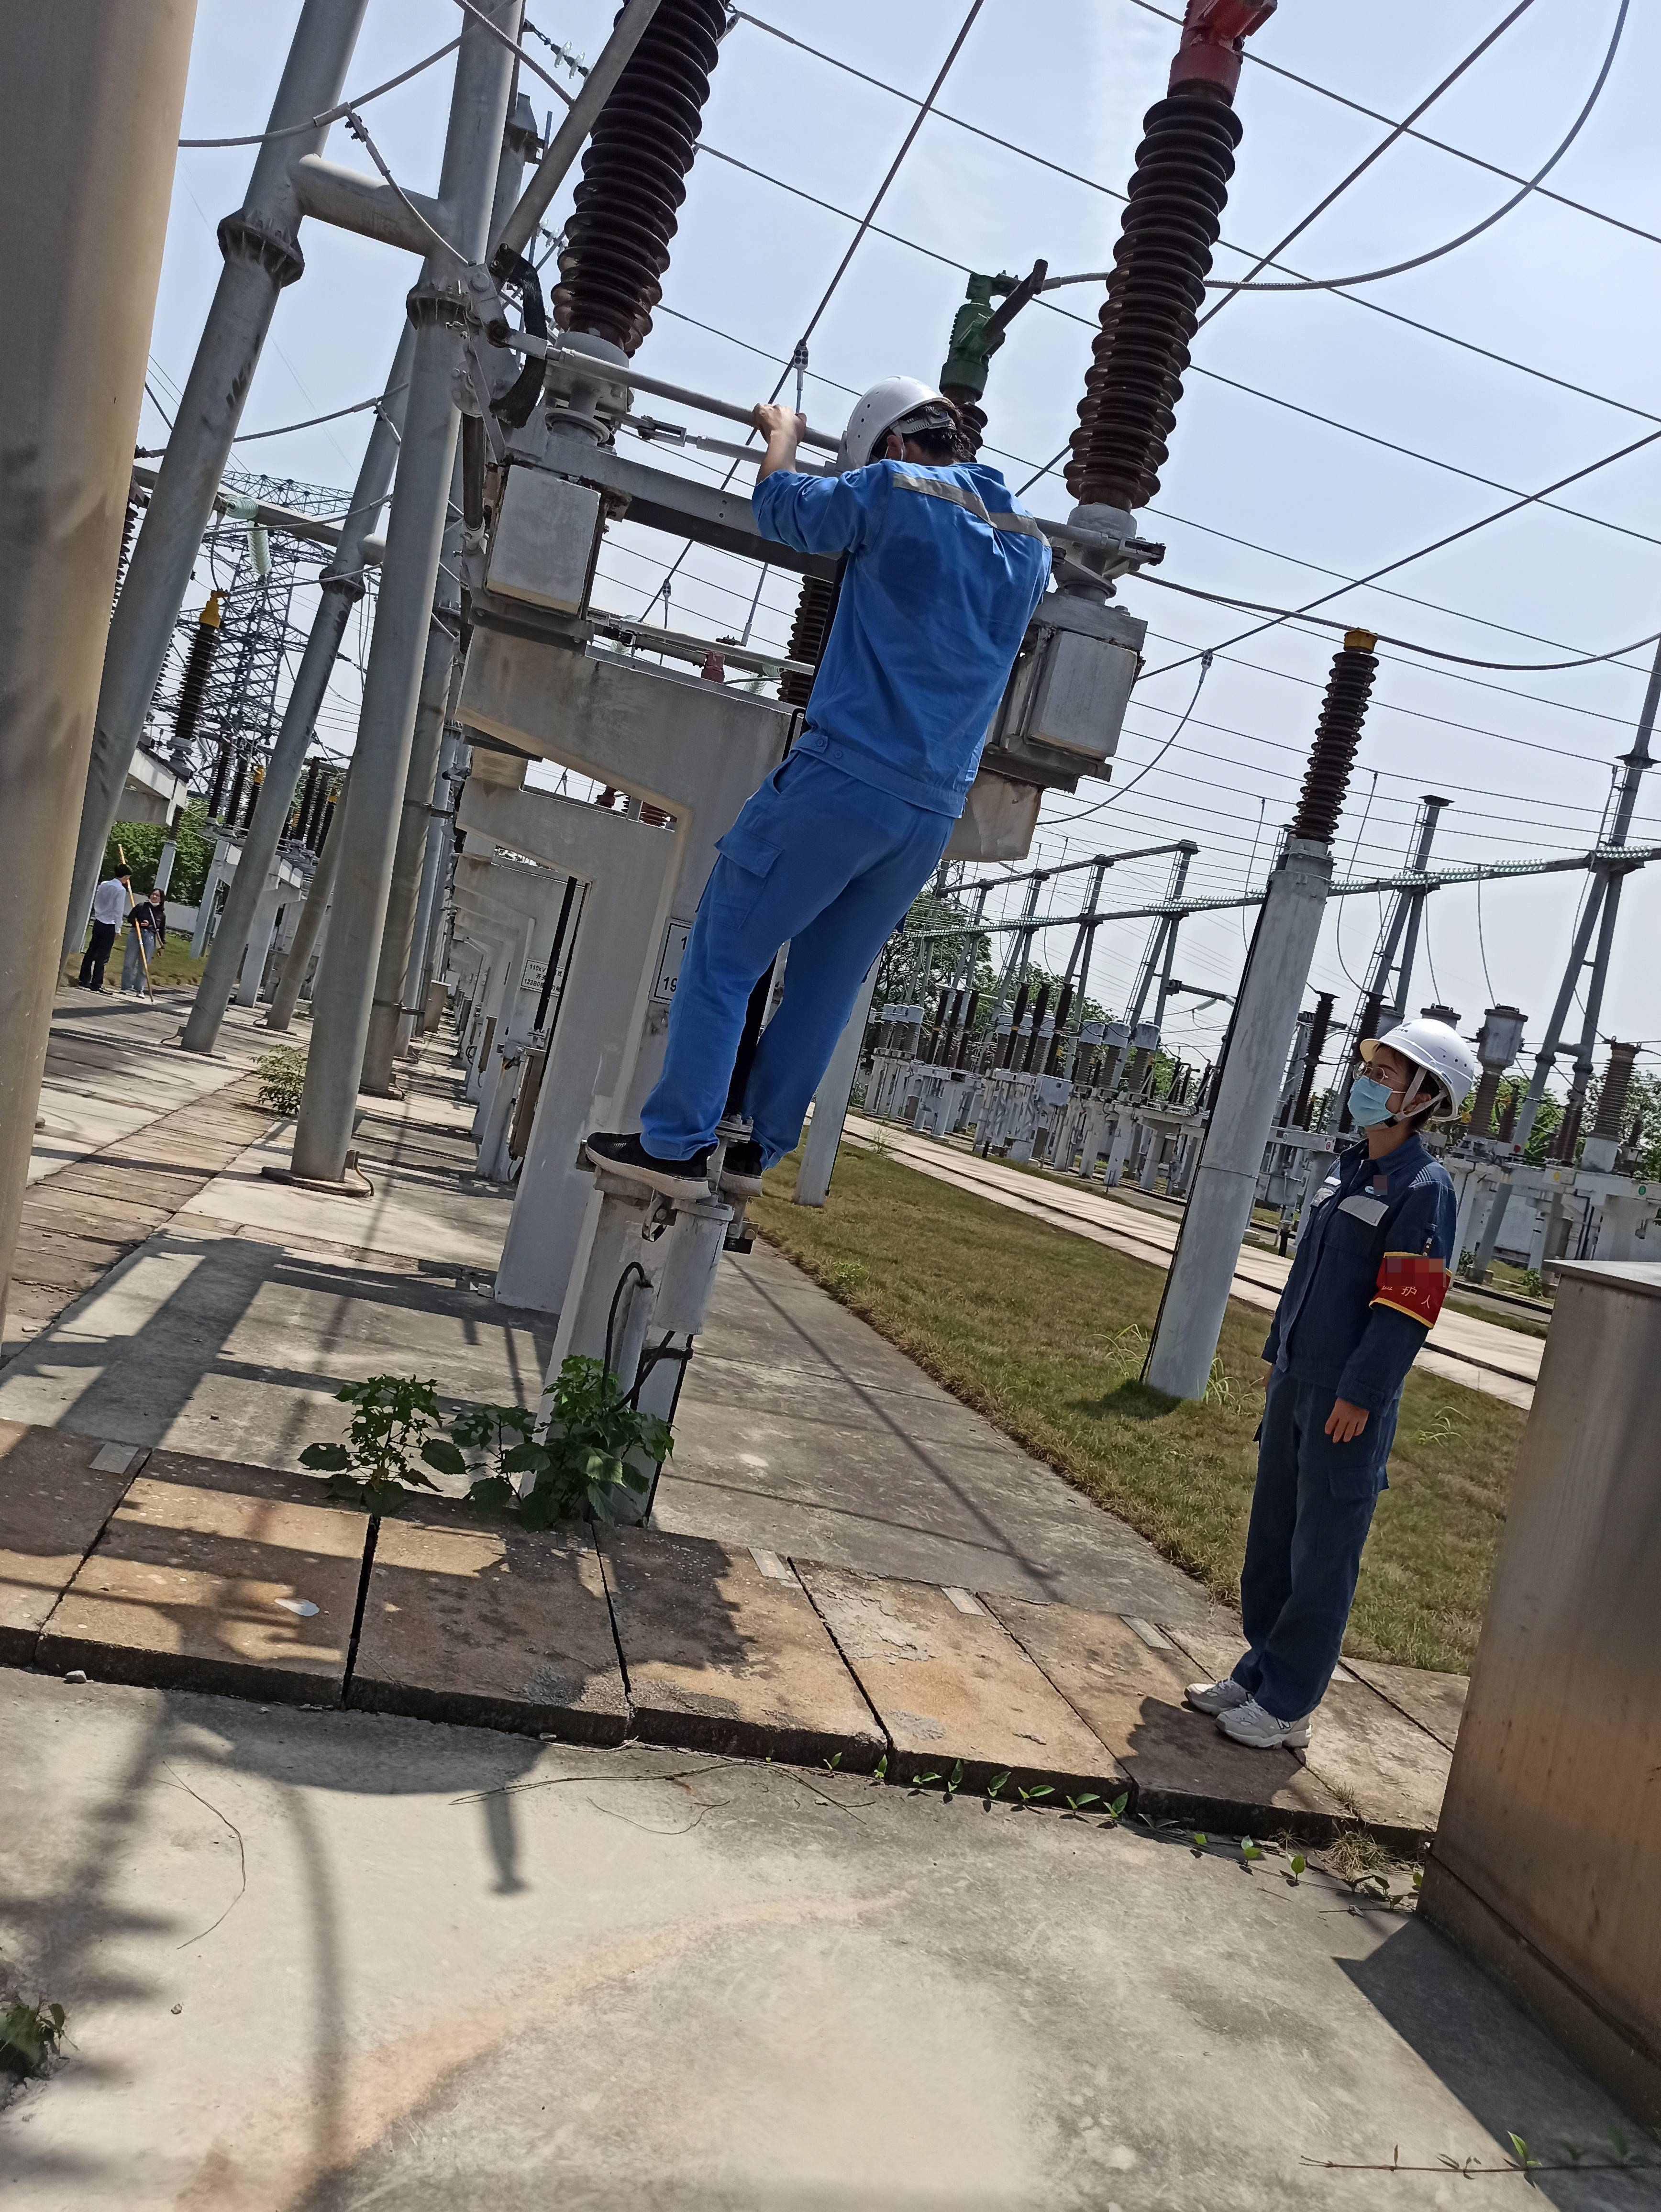downsuit: (646, 797, 949, 1155), (1234, 1418, 1392, 1711)
upsuit: (778, 473, 1031, 789), (1263, 1148, 1462, 1401)
wrongtop: (742, 396, 813, 495)
